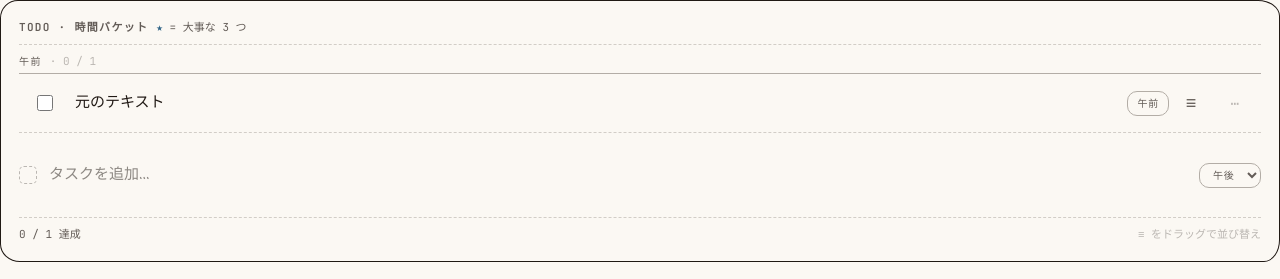
Test case: TodoCard › テキストをタップすると編集モードに入り、prefill された input が表示される
The image size is (1280, 279).
Click the button with aria-label "元のテキスト を編集" at (120, 102), box [75,92,1119,114]
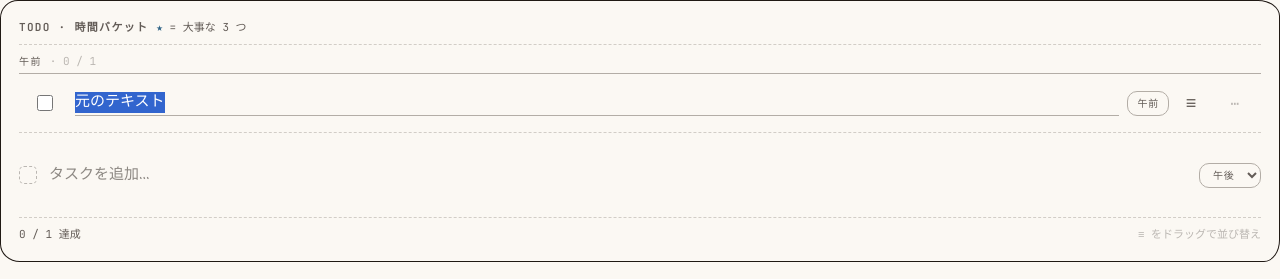
Check: the field named "タスク本文を編集" holds "元のテキスト", box [75,90,1119,116]
